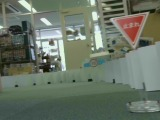stop: (108, 11, 151, 50)
